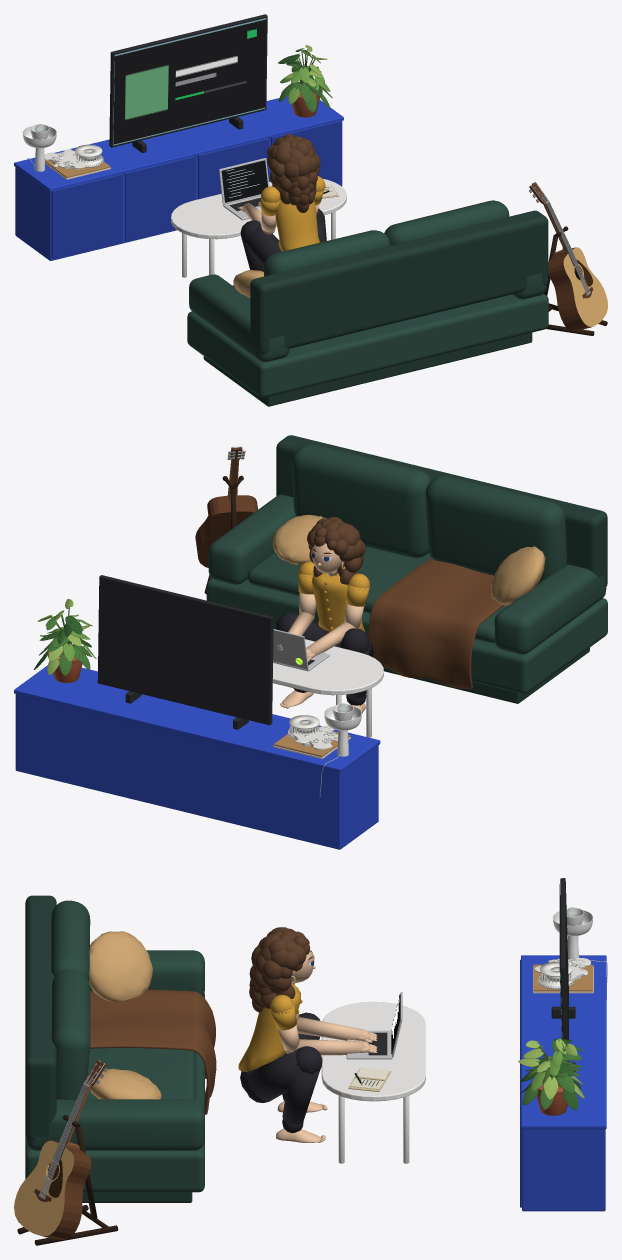
The model's file is escritorio.glb.
3 views of the same model, one above another, from view 1: azimuth 30°, elevation 25°; view 2: azimuth 150°, elevation 25°; view 3: azimuth 270°, elevation 25° (orthographic). The views are drawn at different scales.
Visible parts, largest first — view 1: sillon_respaldo, sillon_cuerpo, obj_tv_pantalla, rack_tapa, rack_puerta_0, rack_puerta_1, sillon_brazo_-1, rack_cuerpo, sillon_zocalo, sillon_almohadon_-1, sillon_almohadon_1, rack_puerta_2 (+12 smaller); view 2: rack_cuerpo, obj_tv_marco, sillon_manta, sillon_almohadon_1, sillon_almohadon_-1, rack_tapa, sillon_cuerpo, sillon_brazo_-1, sillon_respaldo, sillon_brazo_1, sillon_asiento.001, sillon_redondo_0 (+10 smaller); view 3: rack_tapa, sillon_manta, sillon_brazo_1, rack_cuerpo, sillon_respaldo, sillon_cuerpo, sillon_almohadon_1, sillon_redondo_0, sillon_asiento.001, G1_Object_4, mesa_tapa_centro, sillon_almohadon_-1 (+17 smaller).
Part boxes in pixels (x1,y1,x2,y2): sillon_respaldo: (250, 210, 548, 354); sillon_cuerpo: (187, 293, 548, 397); obj_tv_pantalla: (113, 19, 266, 144); rack_tapa: (14, 96, 343, 191); rack_puerta_0: (51, 174, 122, 258); rack_puerta_1: (125, 156, 195, 240); sillon_brazo_-1: (189, 274, 289, 362); rack_cuerpo: (15, 121, 342, 260); sillon_zocalo: (203, 332, 532, 406); sillon_almohadon_-1: (263, 230, 390, 276); sillon_almohadon_1: (384, 200, 509, 245); rack_puerta_2: (198, 138, 268, 199); rack_cuerpo: (15, 694, 378, 849); obj_tv_marco: (97, 575, 273, 725); sillon_manta: (368, 558, 503, 688); sillon_almohadon_1: (291, 443, 430, 557); sillon_almohadon_-1: (425, 475, 566, 584); rack_tapa: (14, 665, 380, 772); sillon_cuerpo: (206, 578, 607, 694); sillon_brazo_-1: (494, 564, 606, 654); sillon_respaldo: (276, 435, 607, 586); sillon_brazo_1: (208, 494, 295, 584); sillon_asiento.001: (247, 546, 508, 642); sillon_redondo_0: (491, 546, 545, 605); rack_tapa: (521, 955, 606, 1129); sillon_manta: (90, 989, 216, 1114); sillon_brazo_1: (25, 1099, 204, 1150); rack_cuerpo: (522, 1129, 605, 1211); sillon_respaldo: (25, 895, 56, 1140); sillon_cuerpo: (25, 993, 204, 1192); sillon_almohadon_1: (51, 970, 90, 1099); sillon_redondo_0: (89, 931, 152, 1001); sillon_asiento.001: (86, 990, 195, 1099); G1_Object_4: (14, 1140, 74, 1236); mesa_tapa_centro: (321, 1023, 425, 1074); sillon_almohadon_-1: (51, 900, 90, 981).
Size of the model in its own units: 2.39 by 1.12 by 2.85.
Materials: 65 (1 with a texture image).
